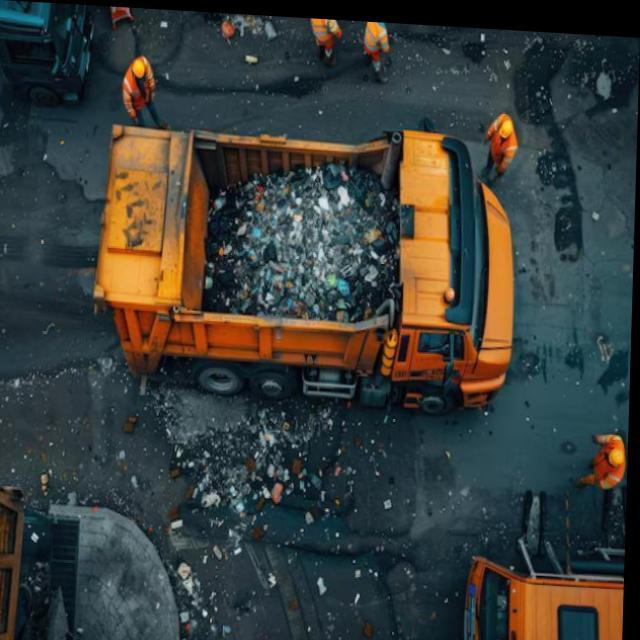uncovered: (101, 98, 497, 398)
